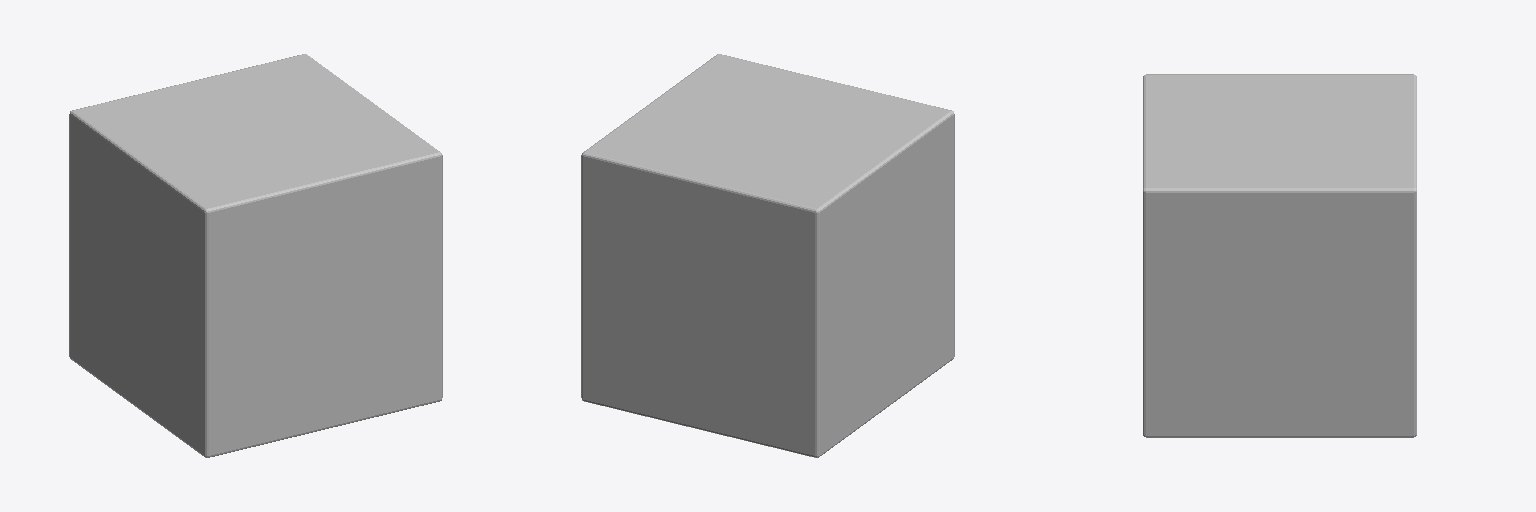
Rendered from roundedCube.obj.
3 renders of one model, left to right at view 1: azimuth 30°, elevation 25°; view 2: azimuth 150°, elevation 25°; view 3: azimuth 270°, elevation 25°, orthographic.
Visible parts, largest first — view 1: Cube; view 2: Cube; view 3: Cube.
Part boxes in pixels (bbox=[...]): Cube: bbox=[69, 54, 442, 457]; Cube: bbox=[581, 54, 954, 457]; Cube: bbox=[1143, 74, 1416, 437].
Bounding box in the file's own units: 1 × 1 × 1.